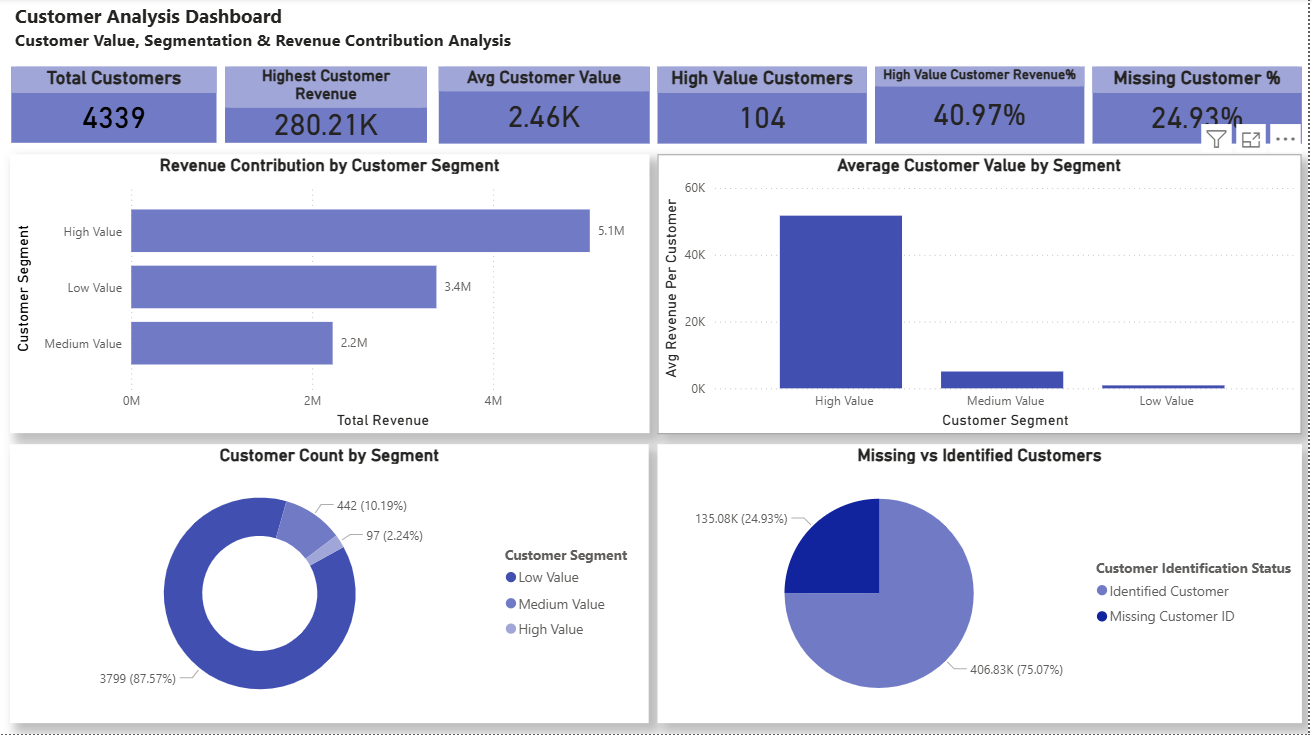

The page's visual inventory and layout, read from the dashboard file:
{"tool":"powerbi","page":{"name":"Page 3","canvas":[1280,720],"ordinal":2},"visuals":[{"type":"textbox","box":[10,0,756.6,58.3],"z":0},{"type":"card","title":"Total Customers","fields":{"Values":["online_retail_clean.Total Customers"]},"box":[10.4,67.6,201.1,74.6],"z":1000},{"type":"card","title":"Highest Customer Revenue","fields":{"Values":["online_retail_clean.Highest Customer Revenue K"]},"box":[220.2,67.6,197.7,74.6],"z":2000},{"type":"card","title":"Avg Customer Value","fields":{"Values":["online_retail_clean.Average Customer Value"]},"box":[429,66.9,206.1,75.2],"z":3000},{"type":"card","title":"High Value Customers","fields":{"Values":["online_retail_clean.High Value Customers"]},"box":[643.5,66.9,204.7,75.2],"z":4000},{"type":"card","title":"High Value Customer Revenue%","fields":{"Values":["online_retail_clean.High Value Revenue %"]},"box":[856.6,66.9,204.7,75.2],"z":5000},{"type":"card","title":"Missing Customer %","fields":{"Values":["online_retail_clean.Missing Customer %"]},"box":[1068.3,66.9,204.7,75.2],"z":6000},{"type":"clusteredBarChart","title":"Revenue Contribution by Customer Segment","fields":{"Category":["online_retail_clean.Customer Segment"],"Y":["online_retail_clean.Total Revenue"]},"box":[9.7,153.2,625.4,273],"z":7000},{"type":"donutChart","title":"Customer Count by Segment","fields":{"Category":["online_retail_clean.Customer Segment"],"Y":["online_retail_clean.Customer Count Fixed"]},"box":[10,436,625,273],"z":8000},{"type":"clusteredColumnChart","title":"Average Customer Value by Segment","fields":{"Y":["online_retail_clean.Avg Revenue Per Customer"],"Category":["online_retail_clean.Customer Segment"]},"box":[643.5,153.2,629.6,273],"z":9000},{"type":"pieChart","title":"Missing vs Identified Customers","fields":{"Category":["online_retail_clean.Customer Identification Status"],"Y":["CountNonNull(online_retail_clean.InvoiceNo)"]},"box":[643,436,630,273],"z":10000}]}

Visuals, with their boxes in screenshot pixels (x1, y1, x2, y2), scaled from the page's 1280x720 canvas onto the 1312x735 screenshot:
textbox: <region>10, 0, 786, 60</region>
"Total Customers" card: <region>11, 69, 217, 145</region>
"Highest Customer Revenue" card: <region>226, 69, 428, 145</region>
"Avg Customer Value" card: <region>440, 68, 651, 145</region>
"High Value Customers" card: <region>660, 68, 869, 145</region>
"High Value Customer Revenue%" card: <region>878, 68, 1088, 145</region>
"Missing Customer %" card: <region>1095, 68, 1305, 145</region>
"Revenue Contribution by Customer Segment" clusteredBarChart: <region>10, 156, 651, 435</region>
"Customer Count by Segment" donutChart: <region>10, 445, 651, 724</region>
"Average Customer Value by Segment" clusteredColumnChart: <region>660, 156, 1305, 435</region>
"Missing vs Identified Customers" pieChart: <region>659, 445, 1305, 724</region>
